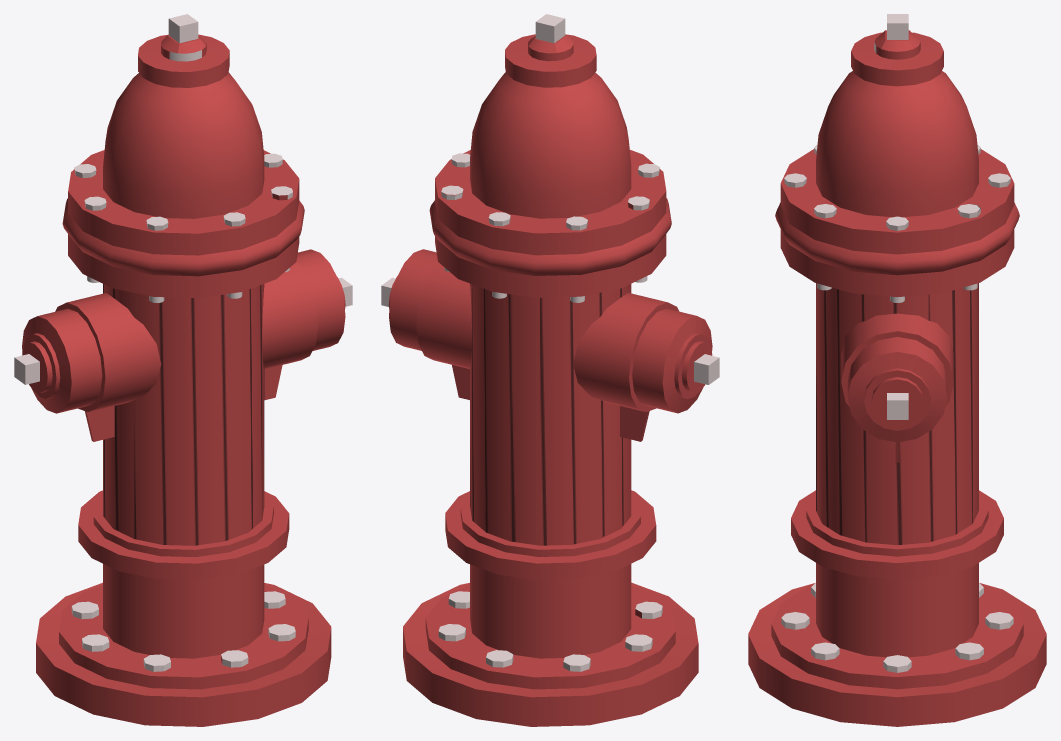
File: FirehydrantTextured.fbx
3 views of the same model, side by side, from view 1: azimuth 30°, elevation 25°; view 2: azimuth 150°, elevation 25°; view 3: azimuth 270°, elevation 25° (orthographic).
Parts seen in each view (by area): view 1: Fire_HJydrant; view 2: Fire_HJydrant; view 3: Fire_HJydrant.
Part boxes in pixels (x1,y1,x2,y2): Fire_HJydrant: (14,14,352,726); Fire_HJydrant: (381,14,719,726); Fire_HJydrant: (748,14,1046,726).
Bounding box in the file's own units: 1.15 × 2.16 × 0.9046.
Materials: 1 (1 with a texture image).
